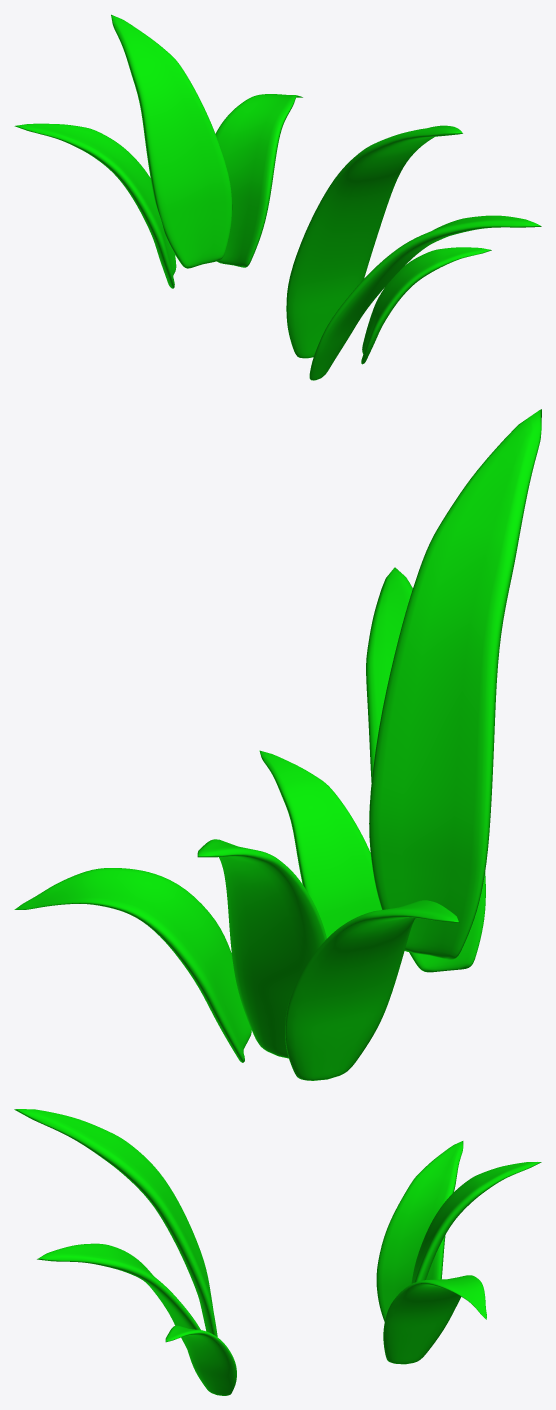
File: ENV_Grass04_Mesh.fbx
3 renders of one model, top to bottom at view 1: azimuth 30°, elevation 25°; view 2: azimuth 150°, elevation 25°; view 3: azimuth 270°, elevation 25°, orthographic. The views are drawn at different scales.
Parts seen in each view (by area): view 1: ENV_Grass04_Mesh; view 2: ENV_Grass04_Mesh; view 3: ENV_Grass04_Mesh.
Boxes of the visible parts, left/top/right/bottom form: ENV_Grass04_Mesh: left=14, top=14, right=541, bottom=380; ENV_Grass04_Mesh: left=14, top=409, right=541, bottom=1080; ENV_Grass04_Mesh: left=14, top=1109, right=541, bottom=1395.
Size of the model in its own units: 355 by 345 by 592.
